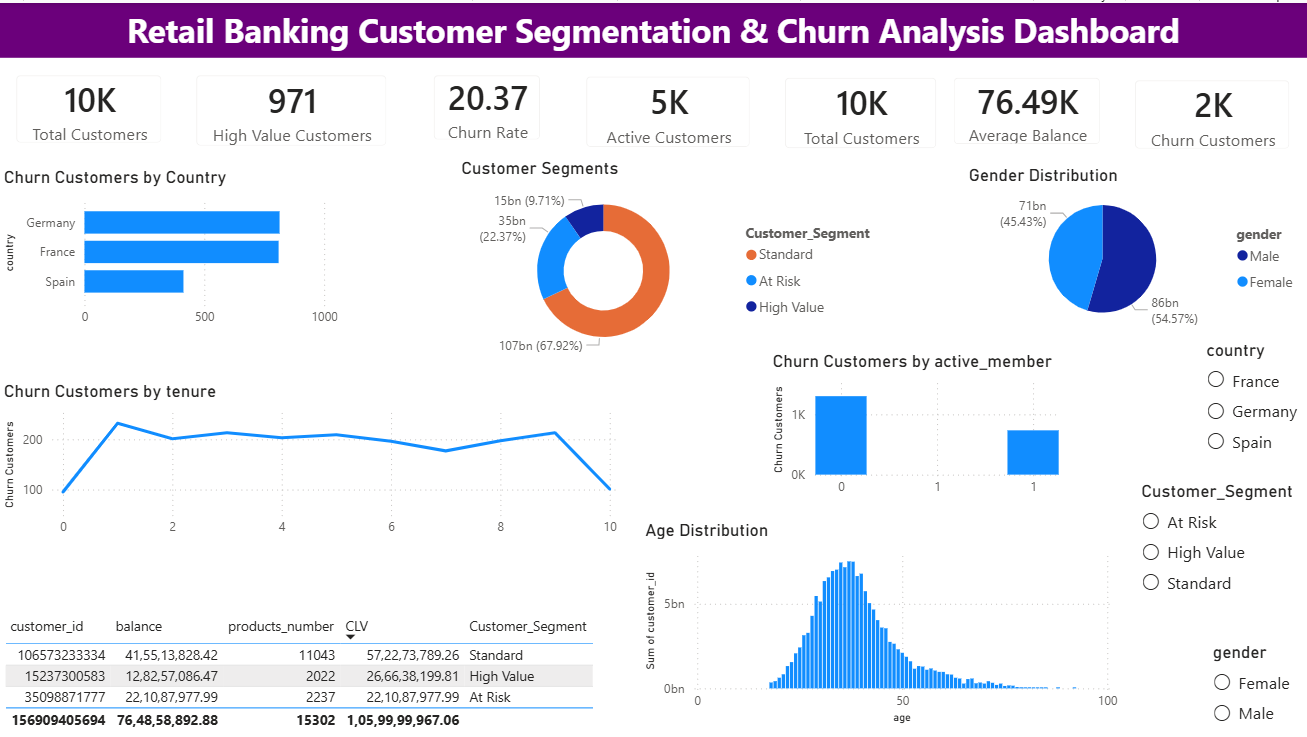

Layout of this report page (visuals, bound fields, positions):
{"tool":"powerbi","page":{"name":"Page 1","canvas":[1280,720],"ordinal":0},"visuals":[{"type":"cardVisual","fields":{"Data":["Final_Banking_Churn_Analysis.Total Customers"]},"box":[0,53.8,176.1,100.3],"z":0},{"type":"cardVisual","fields":{"Data":["Final_Banking_Churn_Analysis.Average Balance"]},"box":[917.1,56.3,177.3,99],"z":1000},{"type":"cardVisual","fields":{"Data":["Final_Banking_Churn_Analysis.Churn Rate"]},"box":[408.4,53.8,138.2,97.8],"z":2000},{"type":"cardVisual","fields":{"Data":["Final_Banking_Churn_Analysis.High Value Customers"]},"box":[176.1,53.8,220.1,103.9],"z":3000},{"type":"cardVisual","fields":{"Data":["Final_Banking_Churn_Analysis.Total Customers"]},"box":[752,56.3,182.2,103.9],"z":4000},{"type":"cardVisual","fields":{"Data":["Final_Banking_Churn_Analysis.Churn Customers"]},"box":[1094.4,58.7,185.9,101.5],"z":5000},{"type":"cardVisual","fields":{"Data":["Final_Banking_Churn_Analysis.Active Customers"]},"box":[557.6,55,194.4,103.9],"z":6000},{"type":"clusteredBarChart","title":"Churn Customers by Country","fields":{"Category":["Final_Banking_Churn_Analysis.country"],"Y":["Final_Banking_Churn_Analysis.Churn Customers"]},"box":[0,160.2,336.3,165.1],"z":7000},{"type":"pieChart","title":"Gender Distribution","fields":{"Category":["Final_Banking_Churn_Analysis.gender"],"Y":["Sum(Final_Banking_Churn_Analysis.customer_id)"]},"box":[944,157.7,336.3,166.3],"z":8000},{"type":"donutChart","title":"Customer Segments","fields":{"Category":["Final_Banking_Churn_Analysis.Customer_Segment"],"Y":["Sum(Final_Banking_Churn_Analysis.customer_id)"]},"box":[447.6,151.6,415.8,201.8],"z":9000},{"type":"lineChart","fields":{"Category":["Final_Banking_Churn_Analysis.tenure"],"Y":["Final_Banking_Churn_Analysis.Churn Customers"]},"box":[0,369.3,612.6,161.4],"z":10000},{"type":"tableEx","fields":{"Values":["Sum(Final_Banking_Churn_Analysis.customer_id)","Sum(Final_Banking_Churn_Analysis.balance)","Sum(Final_Banking_Churn_Analysis.products_number)","Sum(Final_Banking_Churn_Analysis.CLV)","Final_Banking_Churn_Analysis.Customer_Segment"]},"box":[0,593.1,590.6,127.2],"z":11000},{"type":"listSlicer","fields":{"Values":["Final_Banking_Churn_Analysis.country"]},"box":[1176.4,328.9,103.9,127.2],"z":12000},{"type":"listSlicer","fields":{"Values":["Final_Banking_Churn_Analysis.gender"]},"box":[1182.5,624.9,97.8,95.4],"z":13000},{"type":"listSlicer","fields":{"Values":["Final_Banking_Churn_Analysis.Customer_Segment"]},"box":[1112.8,467.1,159,126],"z":14000},{"type":"columnChart","fields":{"Category":["Final_Banking_Churn_Analysis.active_member"],"Y":["Final_Banking_Churn_Analysis.Churn Customers"]},"box":[752,339.9,289.8,151.6],"z":15000},{"type":"clusteredColumnChart","title":"Age Distribution","fields":{"Category":["Final_Banking_Churn_Analysis.age"],"Y":["Sum(Final_Banking_Churn_Analysis.customer_id)"]},"box":[627.3,505,473.2,205.4],"z":16000},{"type":"textbox","box":[0,0,1280.3,53.8],"z":16001}]}

Visuals, with their boxes in screenshot pixels (x1, y1, x2, y2), scaled from the page's 1280x720 canvas onto the 1307x737 screenshot:
cardVisual - Final_Banking_Churn_Analysis.Total Customers: {"x1": 0, "y1": 55, "x2": 180, "y2": 158}
cardVisual - Final_Banking_Churn_Analysis.Average Balance: {"x1": 936, "y1": 58, "x2": 1117, "y2": 159}
cardVisual - Final_Banking_Churn_Analysis.Churn Rate: {"x1": 417, "y1": 55, "x2": 558, "y2": 155}
cardVisual - Final_Banking_Churn_Analysis.High Value Customers: {"x1": 180, "y1": 55, "x2": 405, "y2": 161}
cardVisual - Final_Banking_Churn_Analysis.Total Customers: {"x1": 768, "y1": 58, "x2": 954, "y2": 164}
cardVisual - Final_Banking_Churn_Analysis.Churn Customers: {"x1": 1117, "y1": 60, "x2": 1306, "y2": 164}
cardVisual - Final_Banking_Churn_Analysis.Active Customers: {"x1": 569, "y1": 56, "x2": 768, "y2": 163}
"Churn Customers by Country" clusteredBarChart: {"x1": 0, "y1": 164, "x2": 343, "y2": 333}
"Gender Distribution" pieChart: {"x1": 964, "y1": 161, "x2": 1306, "y2": 332}
"Customer Segments" donutChart: {"x1": 457, "y1": 155, "x2": 882, "y2": 362}
lineChart - Final_Banking_Churn_Analysis.tenure x Final_Banking_Churn_Analysis.Churn Customers: {"x1": 0, "y1": 378, "x2": 626, "y2": 543}
tableEx - Sum(Final_Banking_Churn_Analysis.customer_id) x Sum(Final_Banking_Churn_Analysis.balance): {"x1": 0, "y1": 607, "x2": 603, "y2": 736}
listSlicer - Final_Banking_Churn_Analysis.country: {"x1": 1201, "y1": 337, "x2": 1306, "y2": 467}
listSlicer - Final_Banking_Churn_Analysis.gender: {"x1": 1207, "y1": 640, "x2": 1306, "y2": 736}
listSlicer - Final_Banking_Churn_Analysis.Customer_Segment: {"x1": 1136, "y1": 478, "x2": 1299, "y2": 607}
columnChart - Final_Banking_Churn_Analysis.active_member x Final_Banking_Churn_Analysis.Churn Customers: {"x1": 768, "y1": 348, "x2": 1064, "y2": 503}
"Age Distribution" clusteredColumnChart: {"x1": 641, "y1": 517, "x2": 1124, "y2": 727}
textbox: {"x1": 0, "y1": 0, "x2": 1306, "y2": 55}
